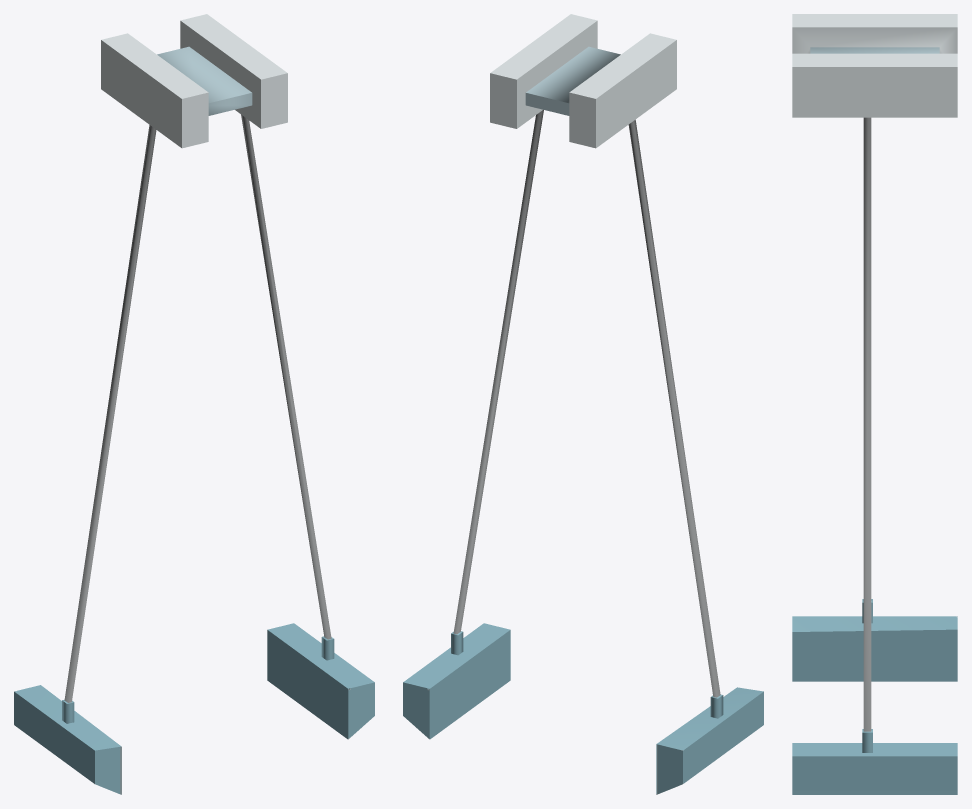
The model's file is Bridge5ArchExtender1.fbx.
3 renders of one model, left to right at view 1: azimuth 30°, elevation 25°; view 2: azimuth 150°, elevation 25°; view 3: azimuth 270°, elevation 25°, orthographic. The views are drawn at different scales.
Parts seen in each view (by area): view 1: Bridge5ArchExtender1; view 2: Bridge5ArchExtender1; view 3: Bridge5ArchExtender1.
Boxes of the visible parts, <box> form: Bridge5ArchExtender1: <box>14,14,374,794</box>; Bridge5ArchExtender1: <box>403,14,763,794</box>; Bridge5ArchExtender1: <box>792,14,957,794</box>.
Bounding box in the file's own units: 15.93 × 37.04 × 7.97.
